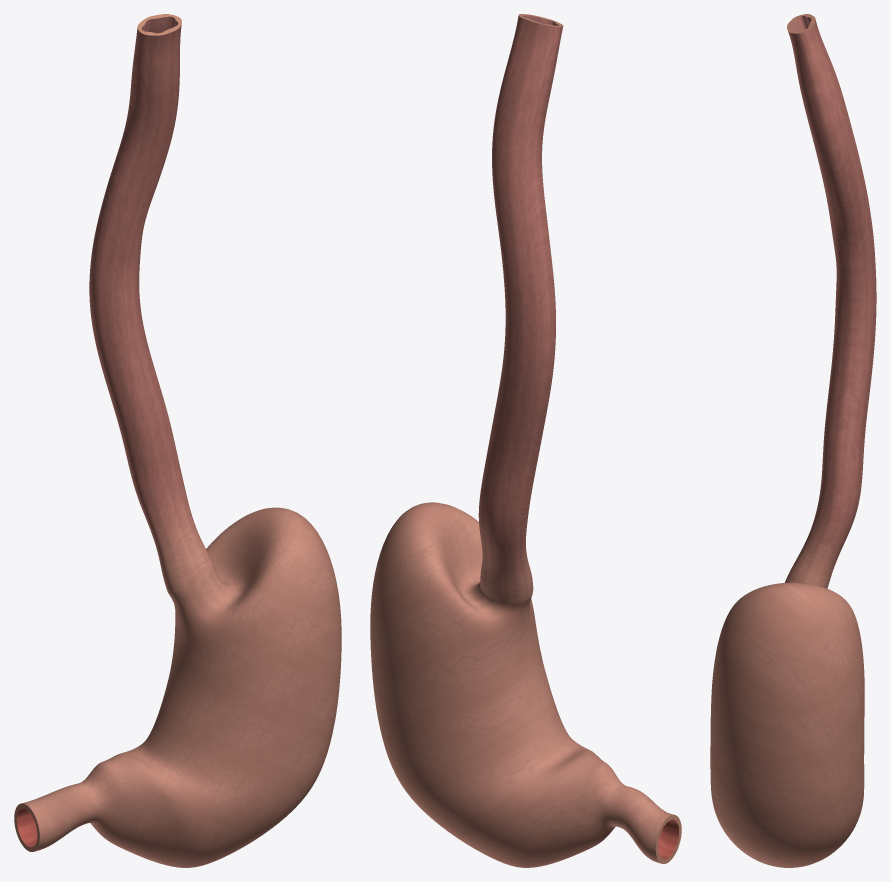
The model's file is previous-assembly.glb.
3 renders of one model, left to right at view 1: azimuth 30°, elevation 25°; view 2: azimuth 150°, elevation 25°; view 3: azimuth 270°, elevation 25°, orthographic. The views are drawn at different scales.
Visible parts, largest first — view 1: Esophagus_and_Stomach; view 2: Esophagus_and_Stomach; view 3: Esophagus_and_Stomach.
Part boxes in pixels (left/top/right/bottom): Esophagus_and_Stomach: left=14, top=14, right=341, bottom=867; Esophagus_and_Stomach: left=370, top=14, right=681, bottom=867; Esophagus_and_Stomach: left=710, top=14, right=876, bottom=867.
Bounding box in the file's own units: 0.1347 × 0.3672 × 0.0667.
Materials: 11 (11 with a texture image).
